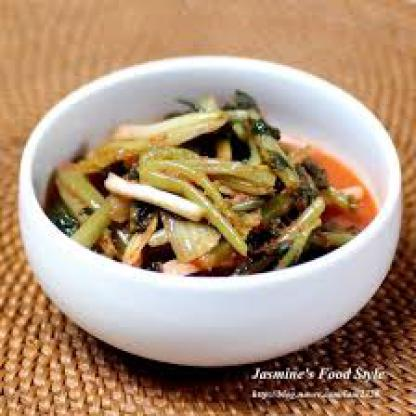young radish Kimchi: (48, 108, 372, 276)
